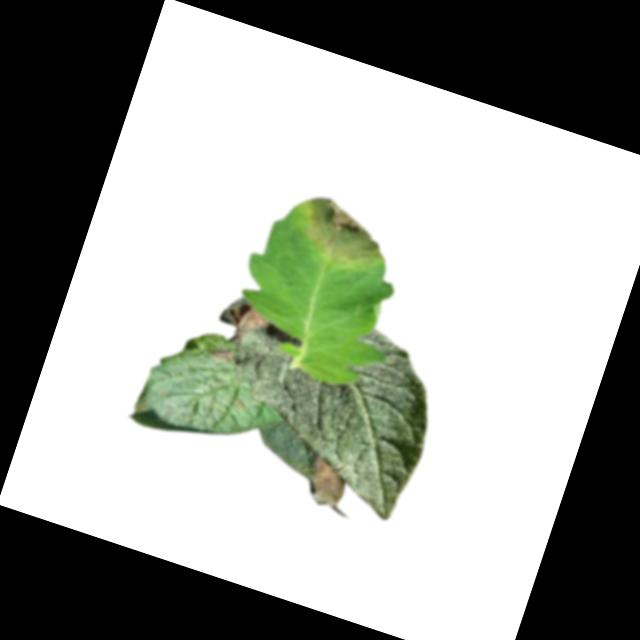Late_blight: (294, 192, 395, 279), (297, 452, 352, 513), (216, 297, 275, 351), (204, 340, 236, 365)
healthy: (202, 290, 454, 524)
